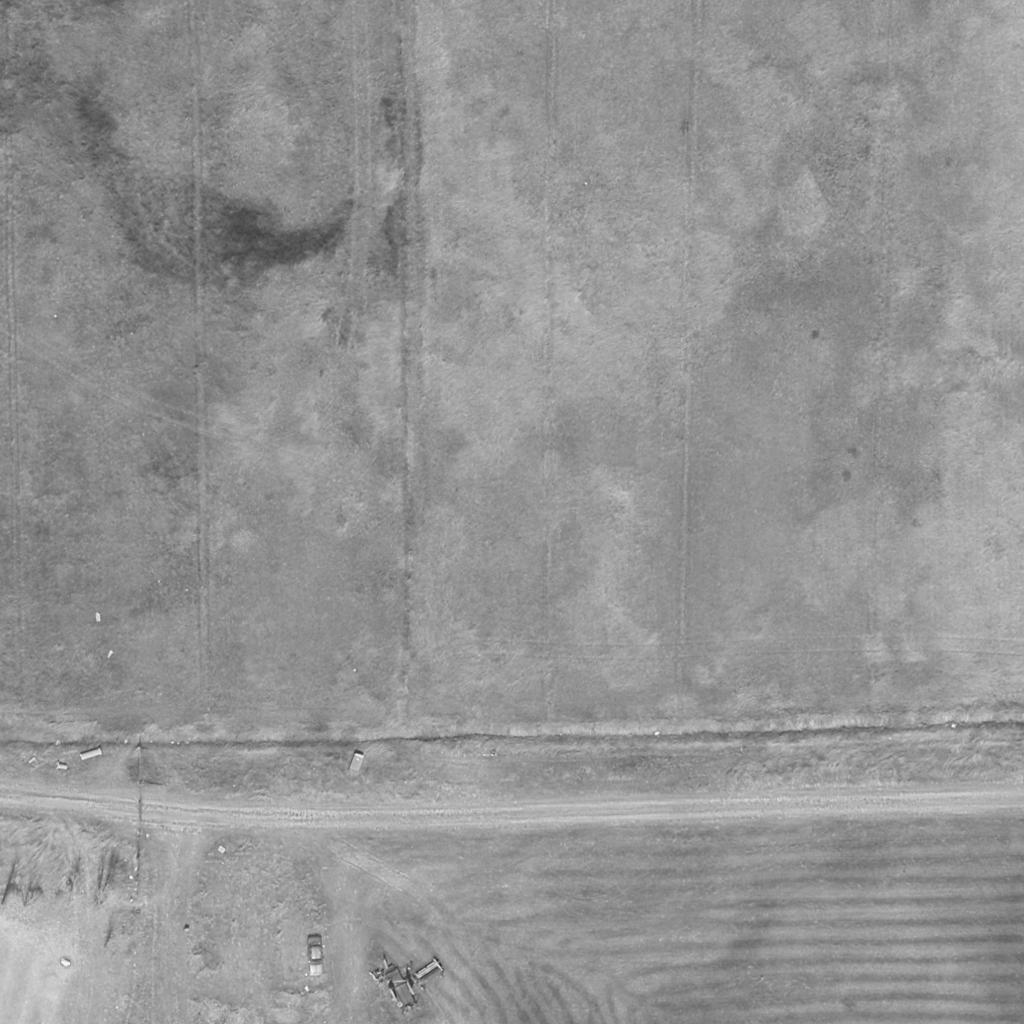vehicle: (308, 934, 322, 978)
